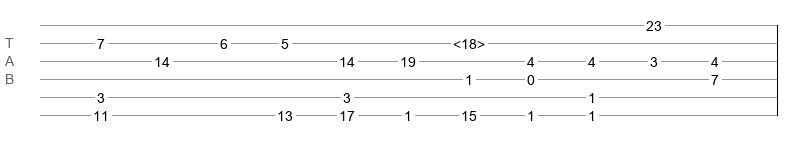0: (527, 72, 535, 82)
1: (404, 108, 412, 118), (465, 72, 473, 82), (527, 108, 535, 118), (588, 90, 596, 100), (588, 108, 596, 118)
11: (93, 108, 109, 118)
13: (277, 108, 293, 118)
14: (154, 54, 170, 64), (339, 54, 355, 64)
15: (461, 108, 477, 118)
17: (339, 108, 355, 118)
19: (400, 54, 416, 64)
23: (646, 18, 662, 28)
3: (97, 90, 105, 100), (343, 90, 351, 100), (650, 54, 658, 64)
4: (527, 54, 535, 64), (588, 54, 596, 64), (711, 54, 719, 64)
5: (281, 36, 289, 46)
6: (220, 36, 228, 46)
7: (97, 36, 105, 46), (711, 72, 719, 82)
harmonic: (453, 36, 485, 46)
